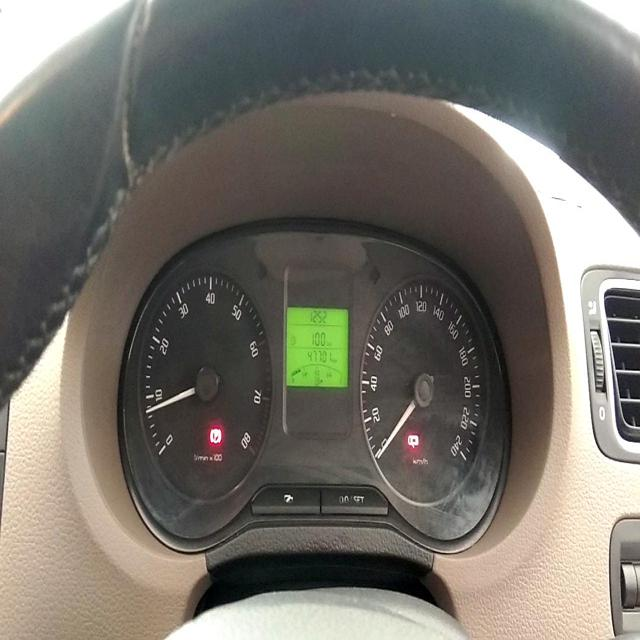odometer: (306, 347, 333, 367)
